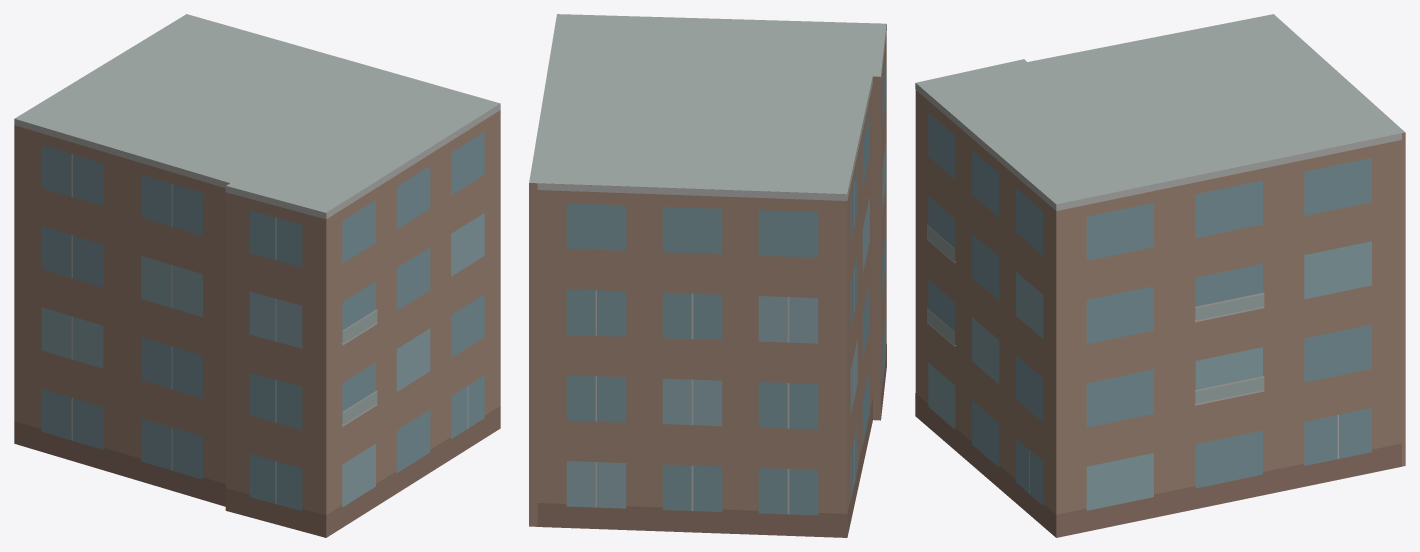
Rendered from survey-upis-32633402.glb.
3 renders of one model, left to right at view 1: azimuth 30°, elevation 25°; view 2: azimuth 150°, elevation 25°; view 3: azimuth 270°, elevation 25°, orthographic. The views are drawn at different scales.
Parts seen in each view (by area): view 1: survey-upis-32633402.tmp; view 2: survey-upis-32633402.tmp; view 3: survey-upis-32633402.tmp.
Part boxes in pixels (x1,y1,x2,y2): survey-upis-32633402.tmp: [14, 14, 500, 537]; survey-upis-32633402.tmp: [529, 14, 886, 537]; survey-upis-32633402.tmp: [915, 14, 1405, 537].
Bounding box in the file's own units: 15.08 × 12.3 × 16.39.
